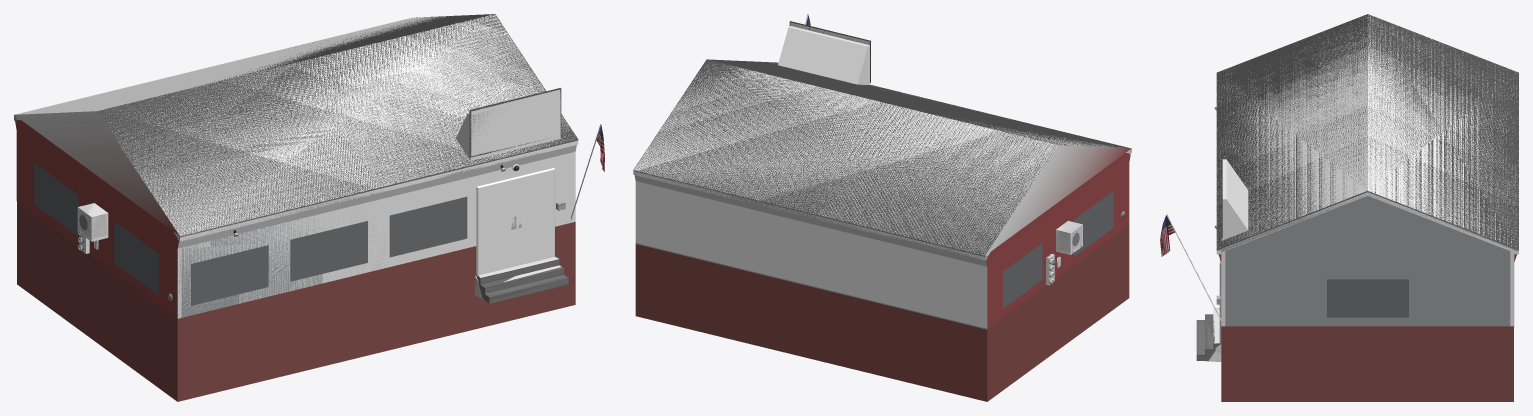
The model's file is eca_offroad_dealership_main.dae.
The picture shows the model from 3 angles, left to right: view 1: azimuth 30°, elevation 25°; view 2: azimuth 150°, elevation 25°; view 3: azimuth 270°, elevation 25°; orthographic projection. The views are drawn at different scales.
Parts seen in each view (by area): view 1: Colmesh_eca_offroad_dealership_main-1, eca_offroad_dealership_main_a900, eca_offroad_dealership_main_a50, eca_offroad_dealership_main_a200; view 2: Colmesh_eca_offroad_dealership_main-1, eca_offroad_dealership_main_a900, eca_offroad_dealership_main_a50, eca_offroad_dealership_main_a200; view 3: eca_offroad_dealership_main_a50, eca_offroad_dealership_main_a900, Colmesh_eca_offroad_dealership_main-1, eca_offroad_dealership_main_a200.
Part boxes in pixels (x1,y1,x2,y2): Colmesh_eca_offroad_dealership_main-1: (14,14,576,318); eca_offroad_dealership_main_a900: (14,14,604,318); eca_offroad_dealership_main_a50: (17,108,575,401); eca_offroad_dealership_main_a200: (14,88,604,303); Colmesh_eca_offroad_dealership_main-1: (634,26,1131,329); eca_offroad_dealership_main_a900: (633,14,1131,328); eca_offroad_dealership_main_a50: (635,191,1129,401); eca_offroad_dealership_main_a200: (633,14,1131,283); eca_offroad_dealership_main_a50: (1221,196,1513,401); eca_offroad_dealership_main_a900: (1160,14,1518,360); Colmesh_eca_offroad_dealership_main-1: (1205,15,1518,361); eca_offroad_dealership_main_a200: (1160,155,1518,360).
Bounding box in the file's own units: 10.47 × 8.6 × 5.58.
